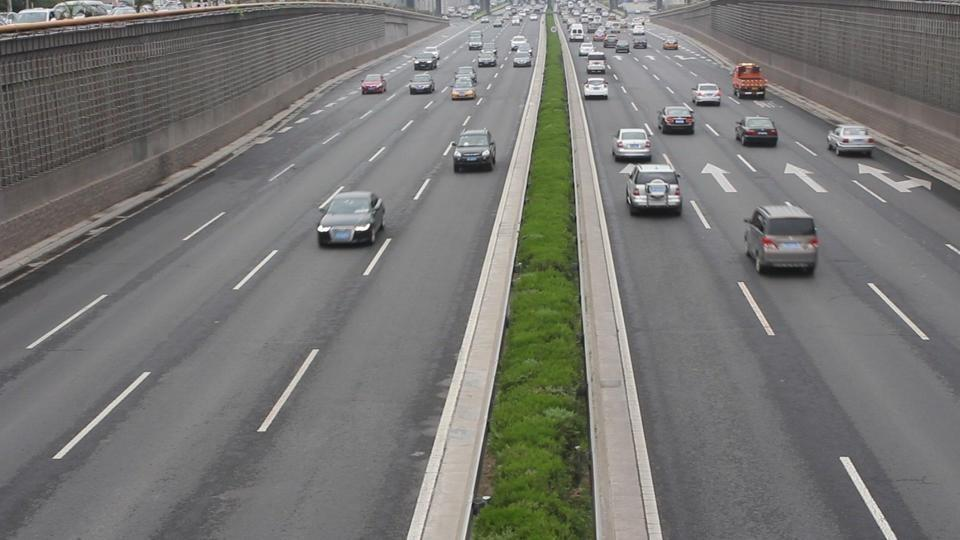car: (742, 202, 820, 277), (316, 190, 386, 248), (621, 162, 683, 216), (451, 128, 497, 174), (826, 124, 875, 156), (733, 115, 779, 148), (611, 127, 653, 162), (730, 63, 768, 101), (656, 104, 696, 134), (450, 66, 478, 101), (10, 8, 55, 25), (692, 82, 722, 107), (510, 37, 533, 67), (582, 77, 609, 100), (412, 49, 439, 71), (409, 73, 435, 95), (361, 75, 388, 95), (467, 30, 483, 51)
